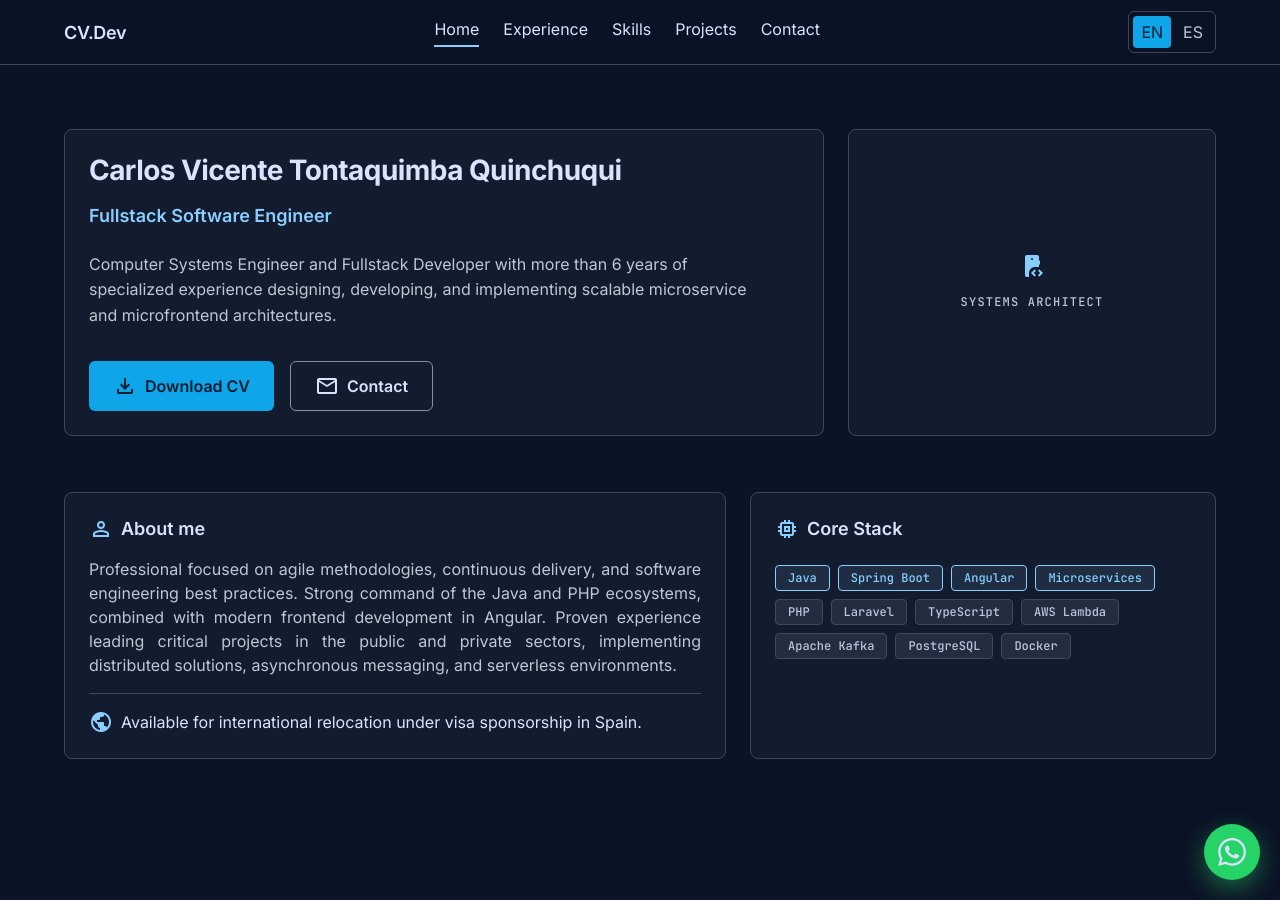
single-page portfolio content › switches the whole page between English and Spanish
Check: the heading "About me" is shown, box [89, 515, 205, 543]
Step 1. Click the button "ES" → (1193, 32), box [1175, 16, 1211, 48]
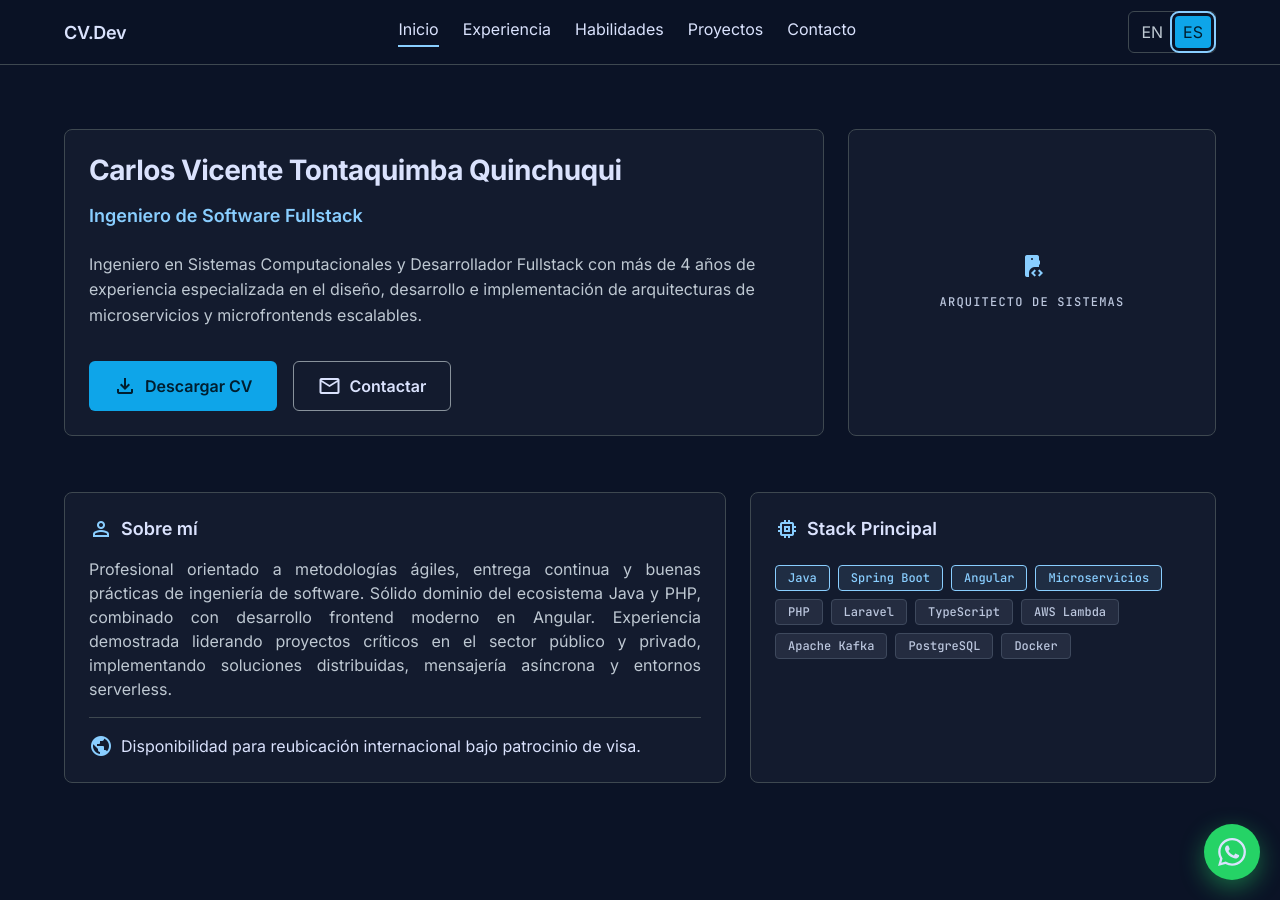
Check: the link "Experiencia" is shown, box [463, 17, 551, 47]
Check: the heading "Sobre mí" is shown, box [89, 515, 198, 543]
Step 2. Click the button "EN" → (1152, 32), box [1133, 16, 1171, 48]
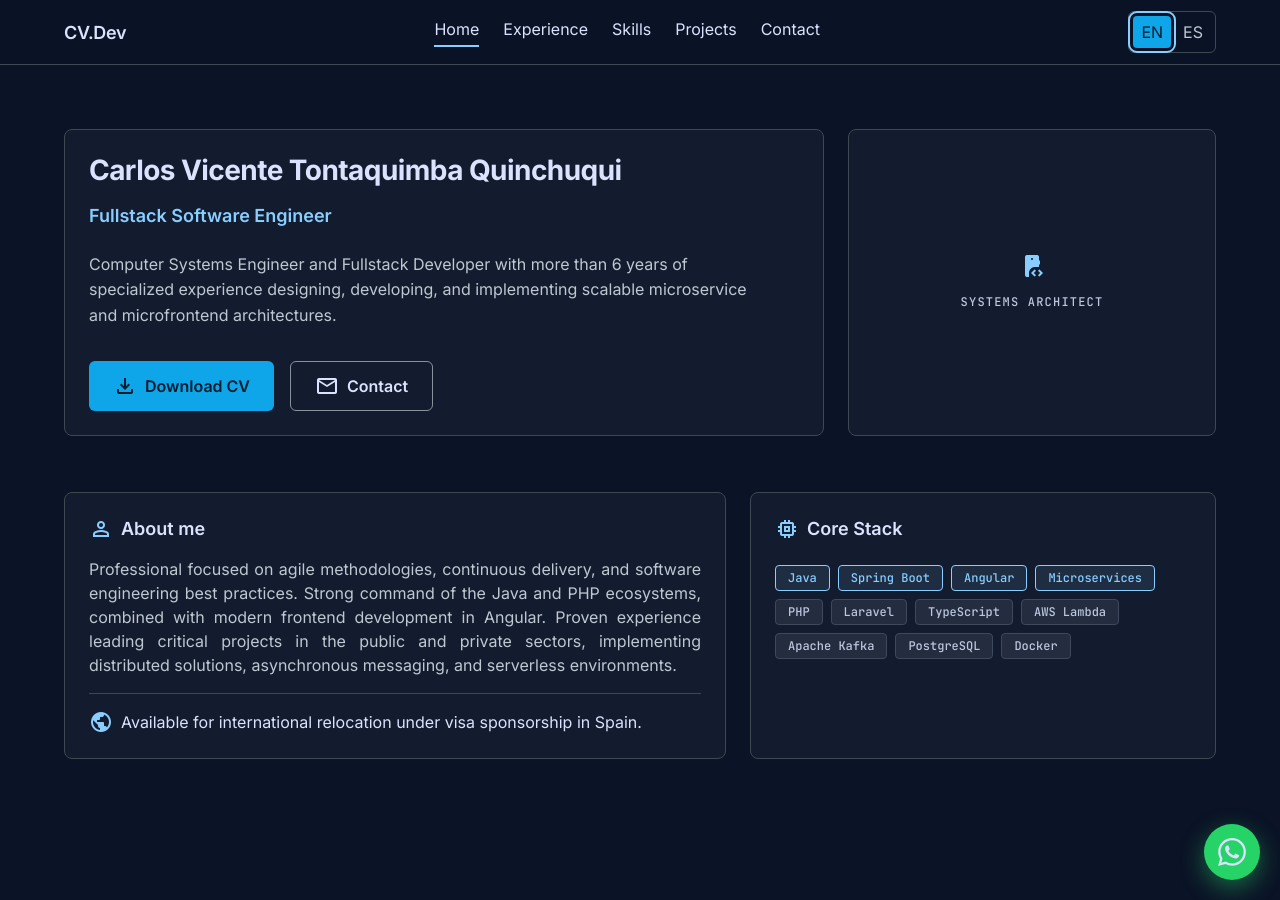
Check: the heading "About me" is shown, box [89, 515, 205, 543]
